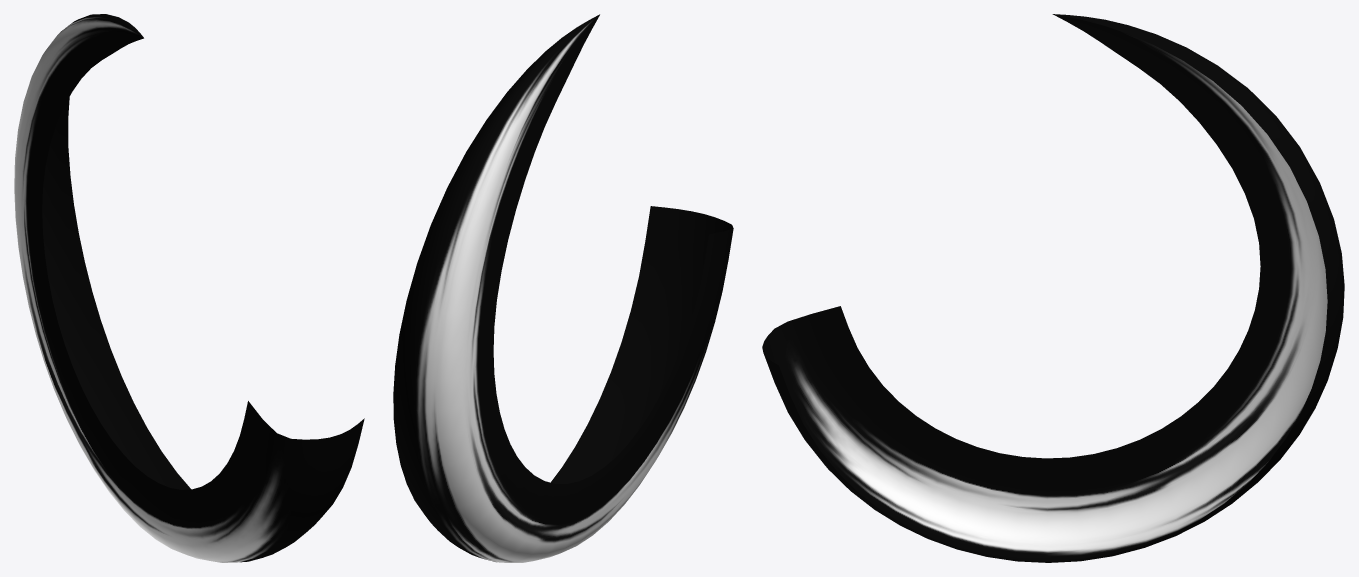
Rendered from SwingWindL.fbx.
The picture shows the model from 3 angles, left to right: view 1: azimuth 30°, elevation 25°; view 2: azimuth 150°, elevation 25°; view 3: azimuth 270°, elevation 25°; orthographic projection. The views are drawn at different scales.
Visible parts, largest first — view 1: SM_e_cmn_Wind002_L.001; view 2: SM_e_cmn_Wind002_L.001; view 3: SM_e_cmn_Wind002_L.001.
Part boxes in pixels (x1,y1,x2,y2): SM_e_cmn_Wind002_L.001: [14, 14, 364, 562]; SM_e_cmn_Wind002_L.001: [393, 14, 733, 562]; SM_e_cmn_Wind002_L.001: [762, 14, 1344, 562].
Bounding box in the file's own units: 20.46 × 116 × 117.
